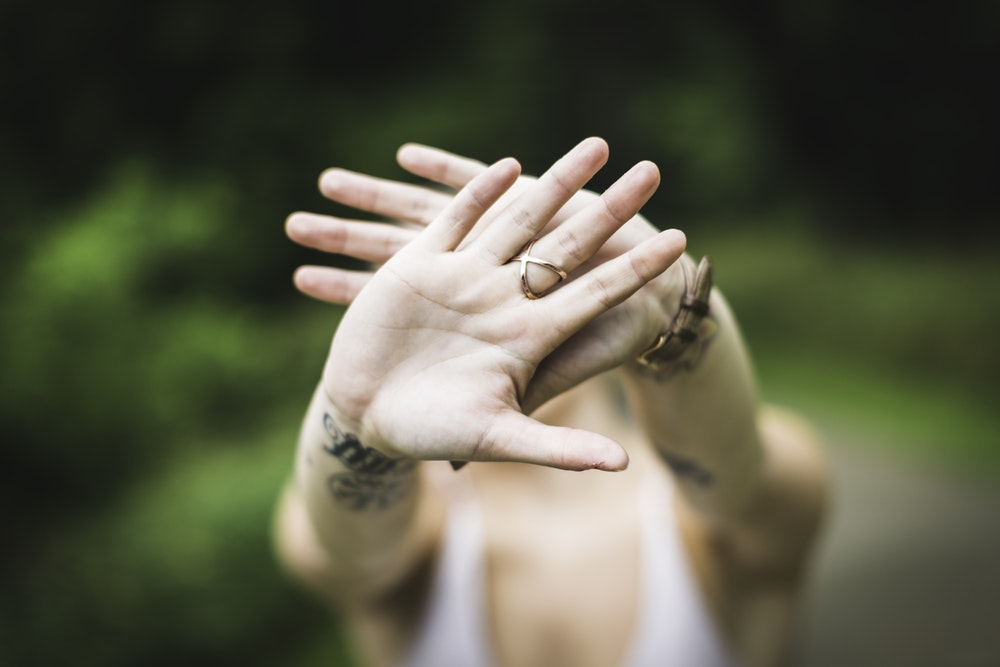palm: (347, 263, 544, 456)
